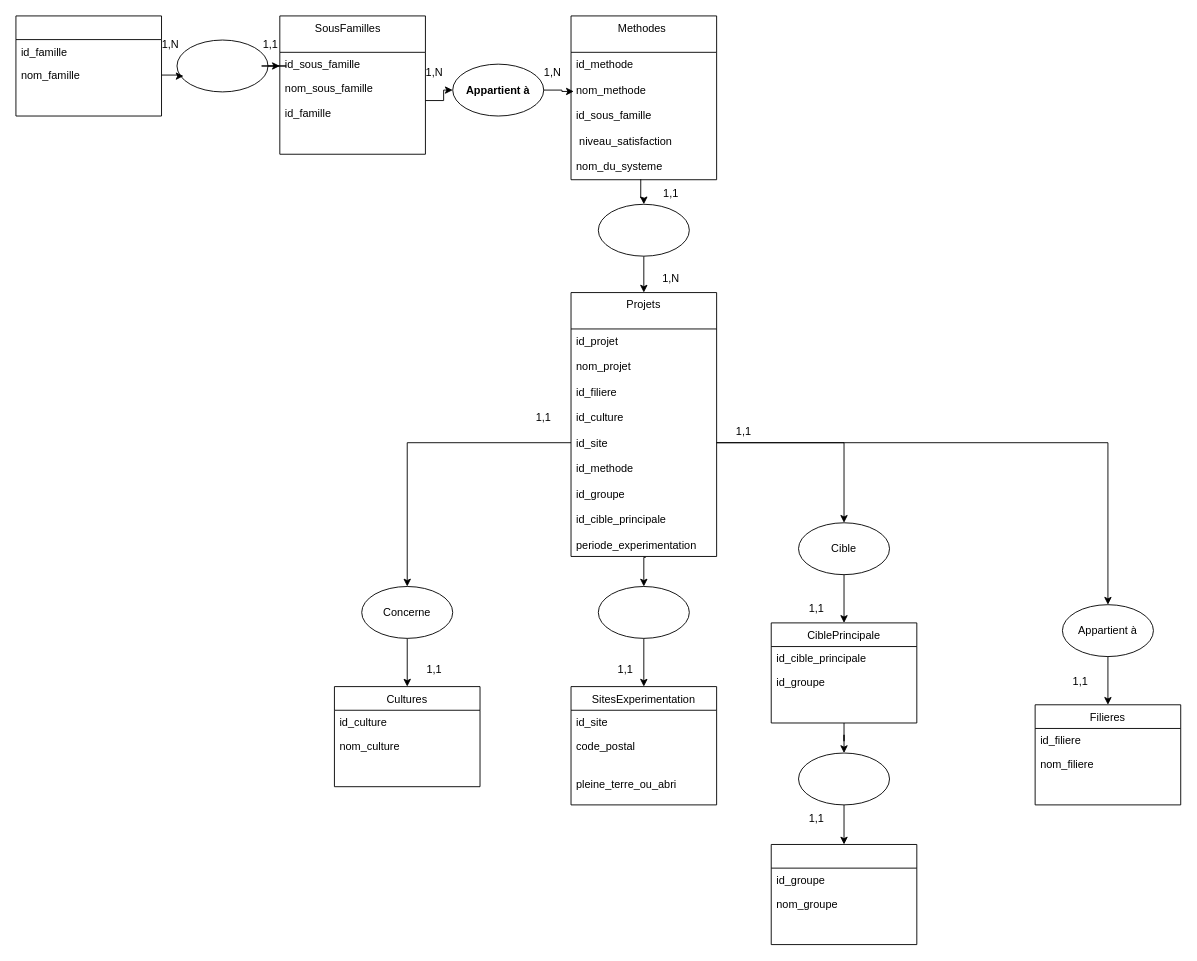
This 1197x961 diagram has some shape labels left out. Here are the shapes that lost their labels. From the top down, the box of each, then its label:
(15, 15, 162, 116): Familles
(176, 39, 268, 92): Fait partie de
(597, 203, 689, 256): Utilise
(597, 586, 689, 638): Réalisé sur
(798, 752, 890, 805): Sous-ensemble de
(770, 844, 917, 945): GroupesCibles
